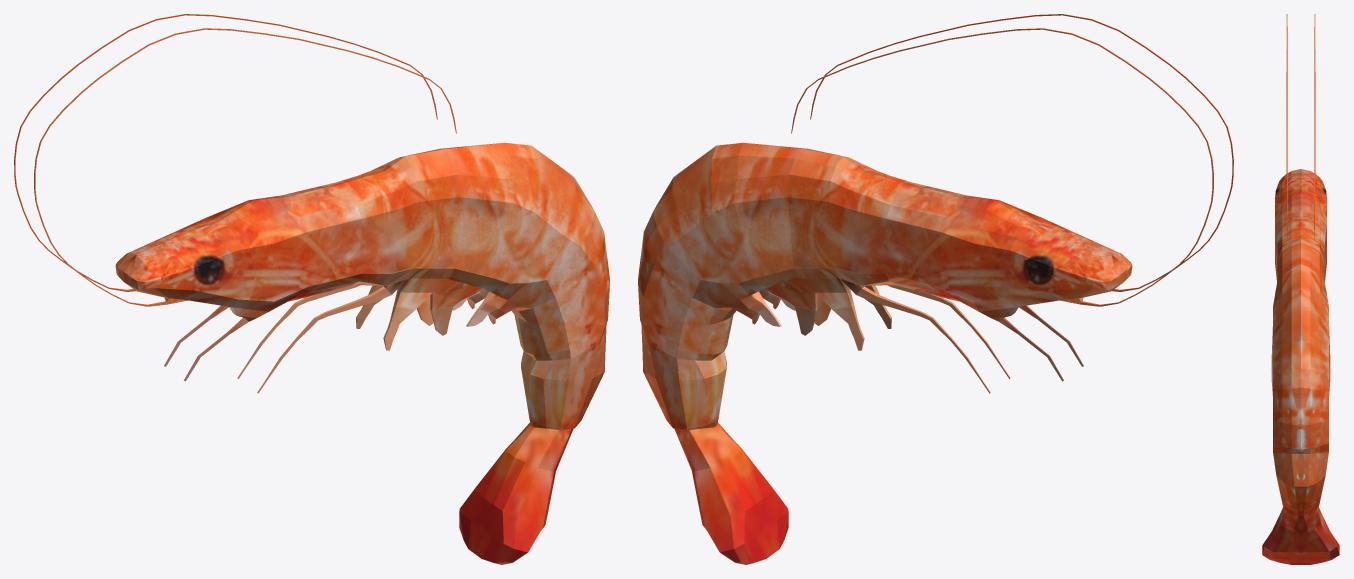
The model's file is shrimp.fbx.
The picture shows the model from 3 angles, left to right: view 1: azimuth 30°, elevation 25°; view 2: azimuth 150°, elevation 25°; view 3: azimuth 270°, elevation 25°; orthographic projection. The views are drawn at different scales.
Parts seen in each view (by area): view 1: Fläche; view 2: Fläche; view 3: Fläche.
Part boxes in pixels (x1=…): Fläche: x1=14, y1=14, x2=609, y2=564; Fläche: x1=638, y1=14, x2=1233, y2=564; Fläche: x1=1262, y1=14, x2=1339, y2=564.
Size of the model in its own units: 362 by 361 by 58.6.
